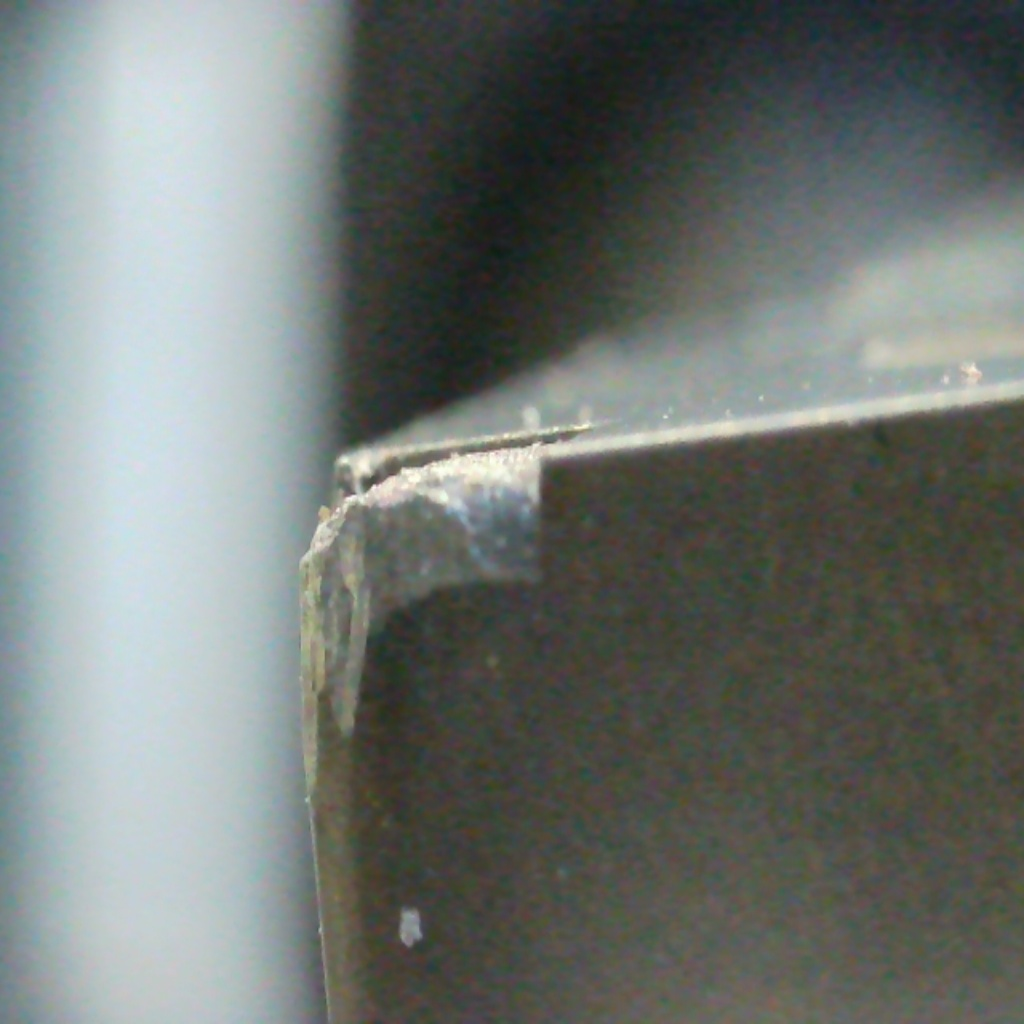flank_wear: (326, 523, 552, 616), (296, 584, 372, 808)
